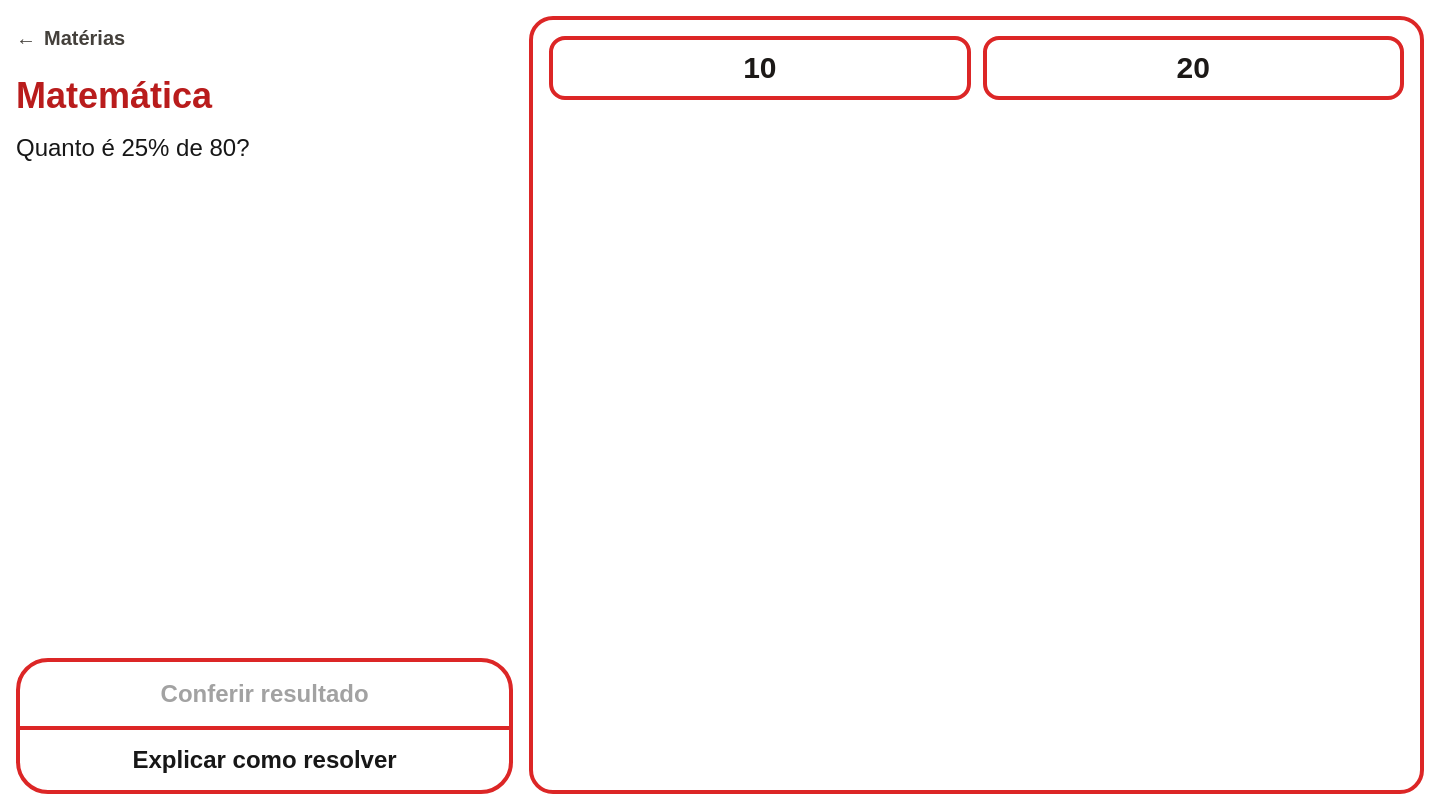
multiple-choice question › 'Conferir resultado' is disabled until an option is selected
The width and height of the screenshot is (1440, 810).
Expected: the button "Conferir resultado" is disabled, [20,662,509,726]
Click the button "20": [1193, 68] box [983,36,1404,100]
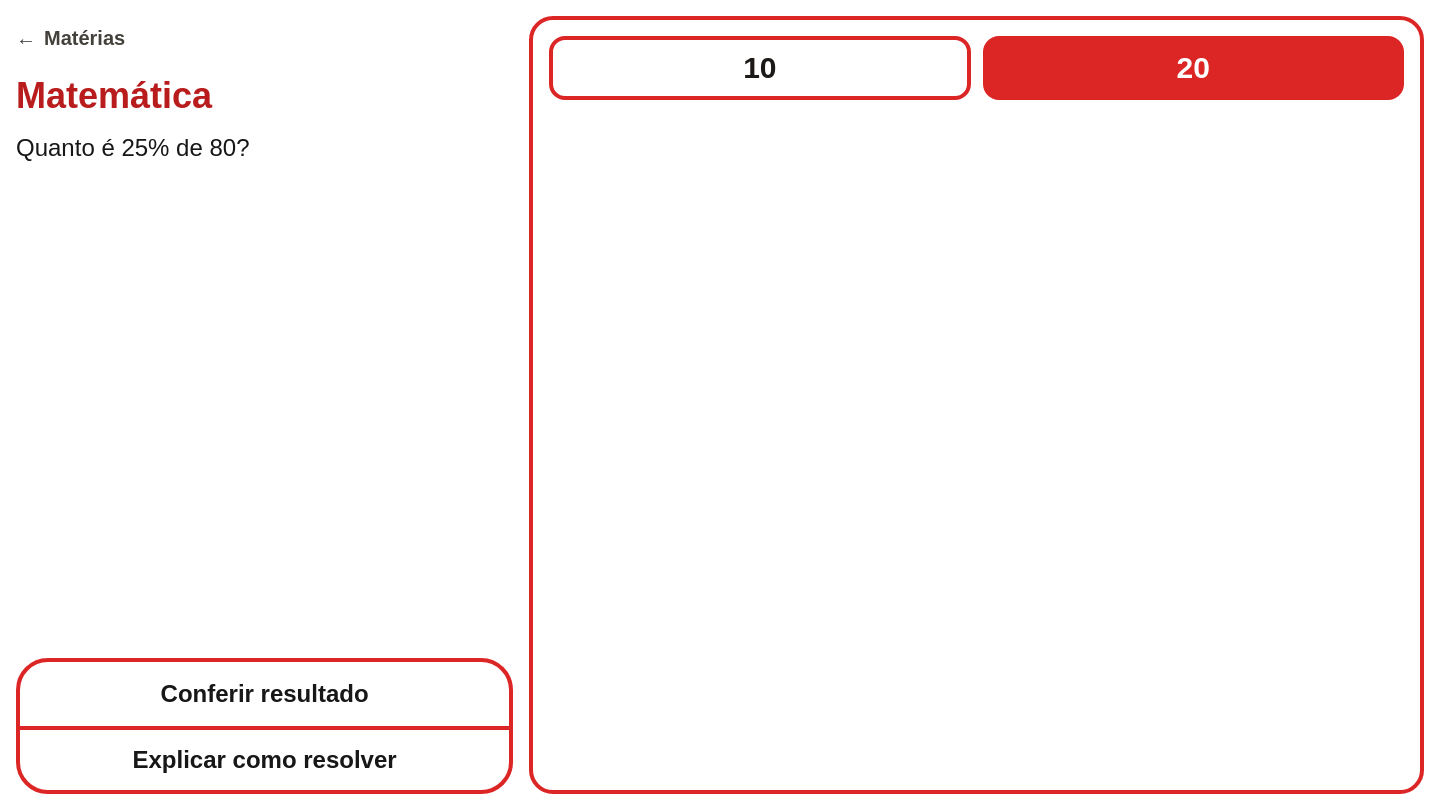
Result: the button "Conferir resultado" is enabled at [20,662,509,726]
